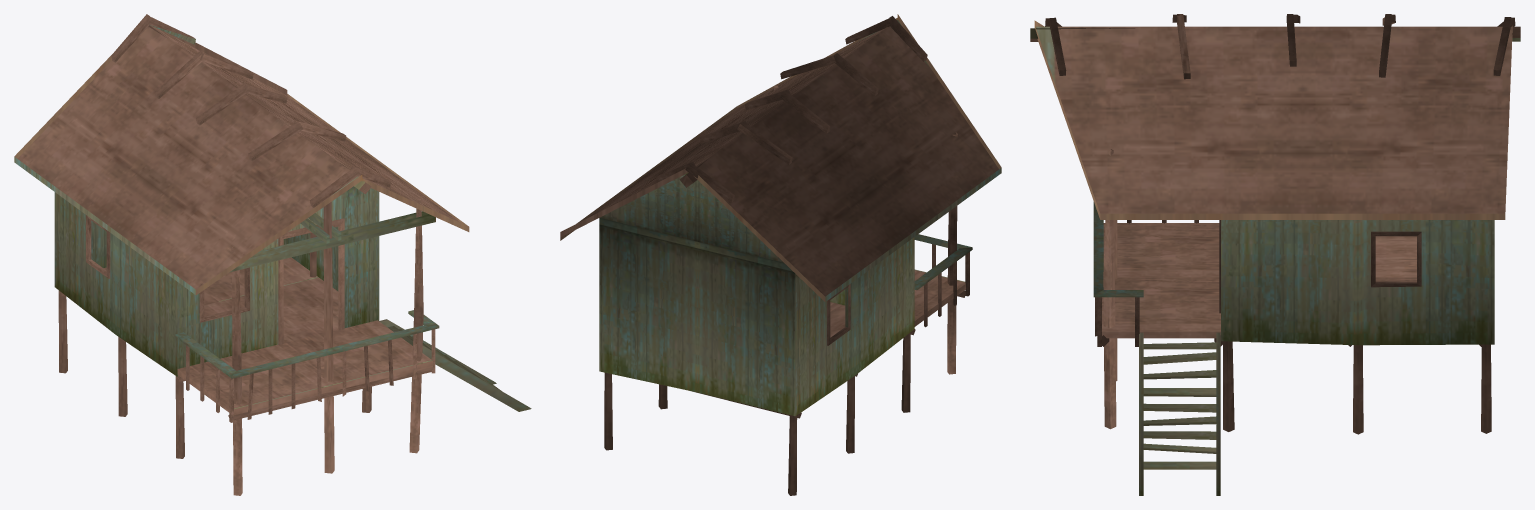
The model's file is shack.glb.
The picture shows the model from 3 angles, left to right: view 1: azimuth 30°, elevation 25°; view 2: azimuth 150°, elevation 25°; view 3: azimuth 270°, elevation 25°; orthographic projection. The views are drawn at different scales.
Parts seen in each view (by area): view 1: Mesh_0015.rip, Mesh_0015.rip.001; view 2: Mesh_0015.rip, Mesh_0015.rip.001; view 3: Mesh_0015.rip.001, Mesh_0015.rip.
Part boxes in pixels (x1,y1,x2,y2): Mesh_0015.rip: (54,14,531,495); Mesh_0015.rip.001: (14,25,460,295); Mesh_0015.rip: (560,16,972,495); Mesh_0015.rip.001: (560,14,1001,301); Mesh_0015.rip.001: (1034,20,1512,213); Mesh_0015.rip: (1030,14,1520,495).
Bounding box in the file's own units: 6.96 × 6.18 × 7.51.
1 material, 1 textured.
